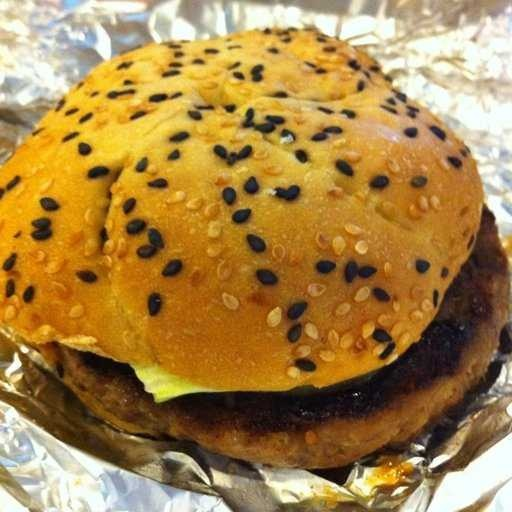hamburger: (1, 24, 508, 460)
